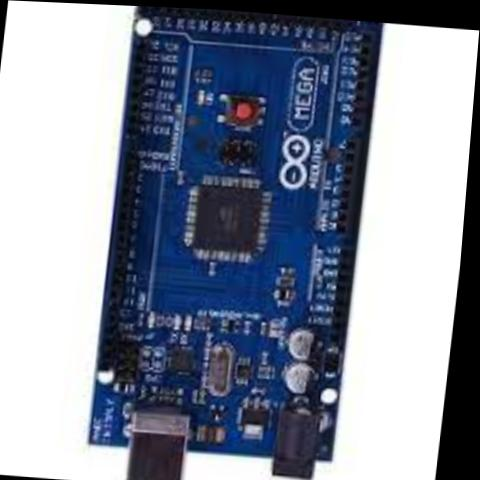Arduino-Mega: (70, 4, 404, 480)
